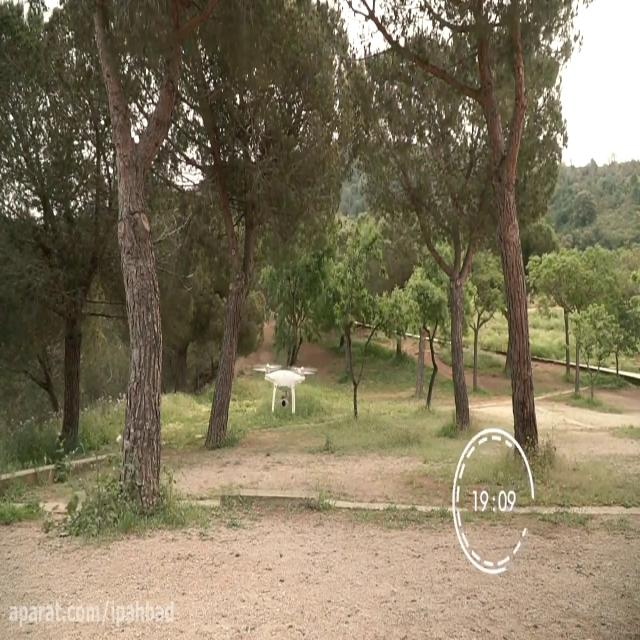drone: (252, 359, 320, 417)
